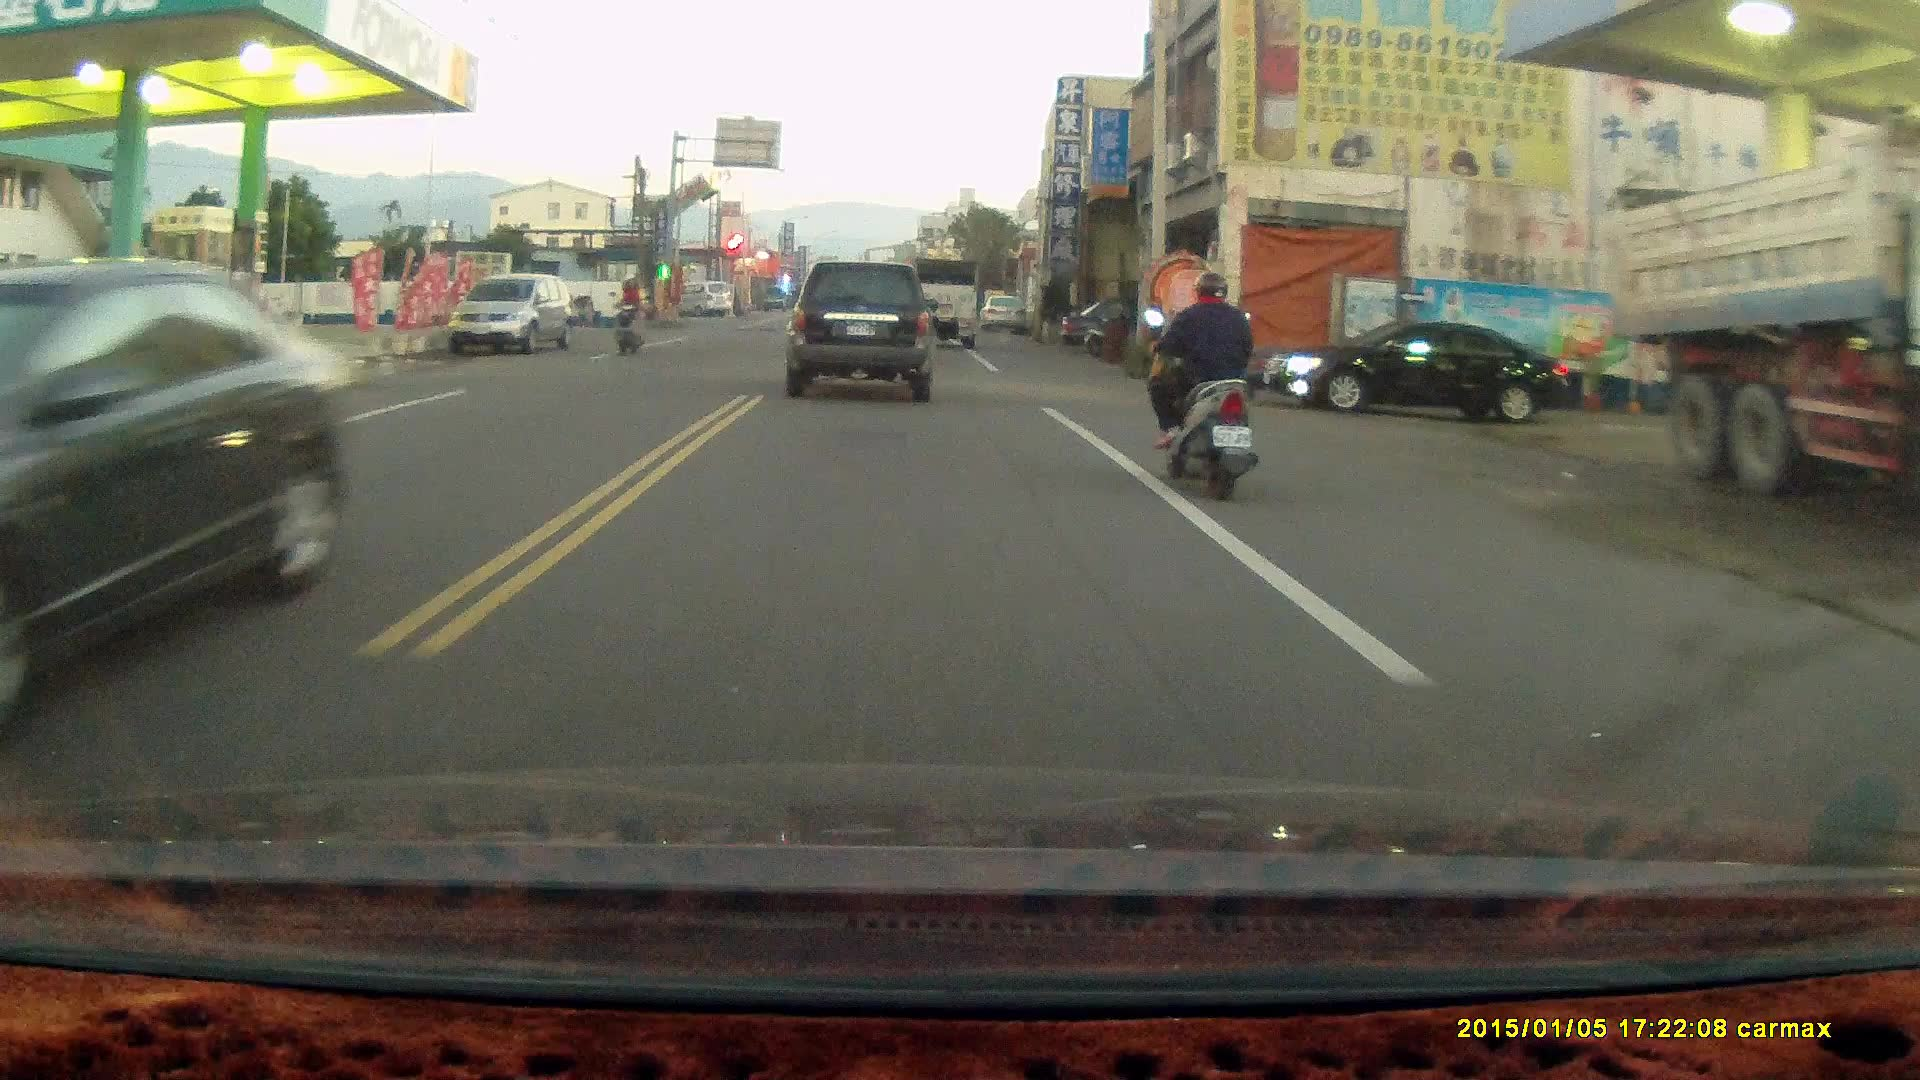rider: (1140, 272, 1256, 501), (606, 270, 646, 357)
vehicle: (1, 254, 354, 751), (1613, 127, 1920, 496), (1265, 322, 1586, 422), (790, 261, 937, 402), (449, 272, 572, 362), (909, 258, 980, 351)
